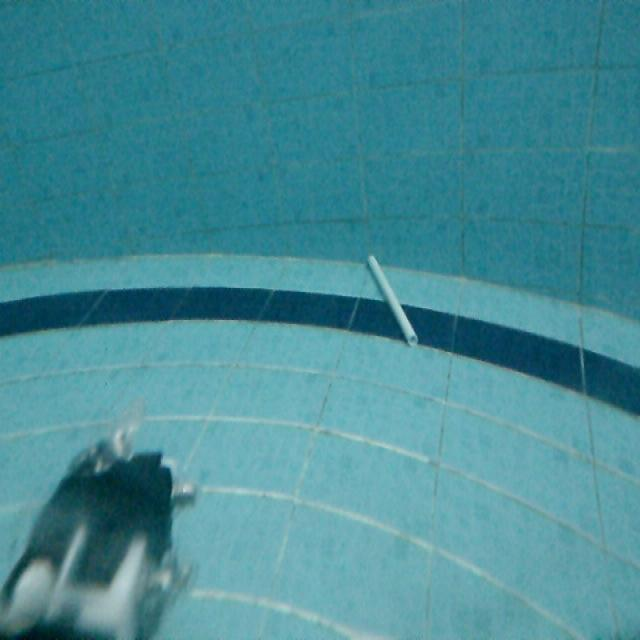Cube: (363, 254, 420, 350)
